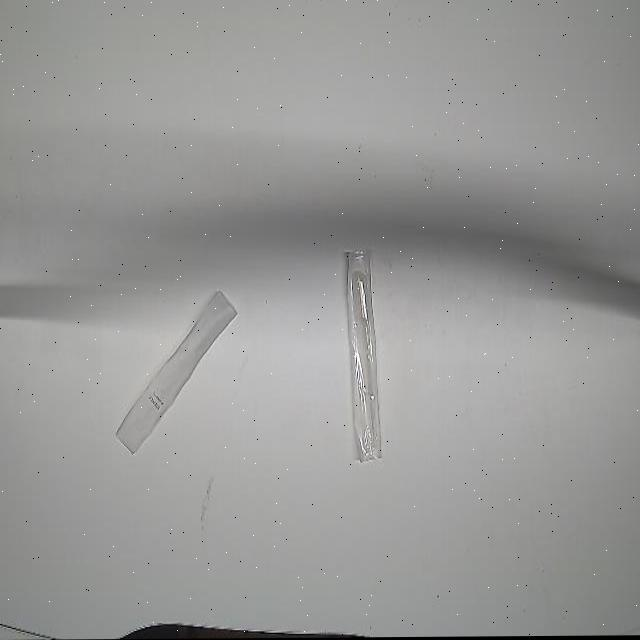Disposable Pasteur Pipette - Sealed: (114, 286, 239, 456), (342, 247, 388, 466)
